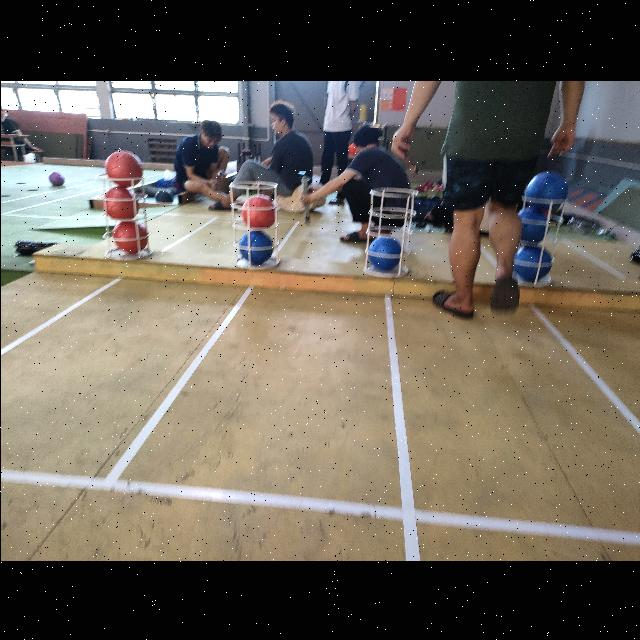B: (236, 230, 274, 266), (362, 236, 402, 270)
R: (104, 148, 144, 186), (101, 186, 141, 220), (112, 222, 150, 254), (241, 196, 277, 228)
